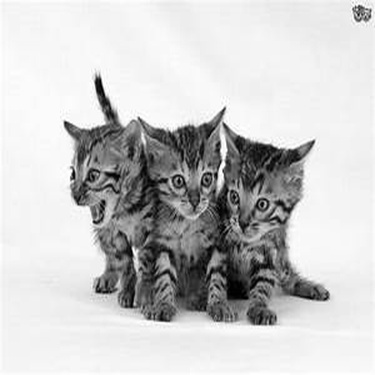cat: (56, 69, 157, 310), (132, 104, 240, 325), (218, 120, 330, 329)
